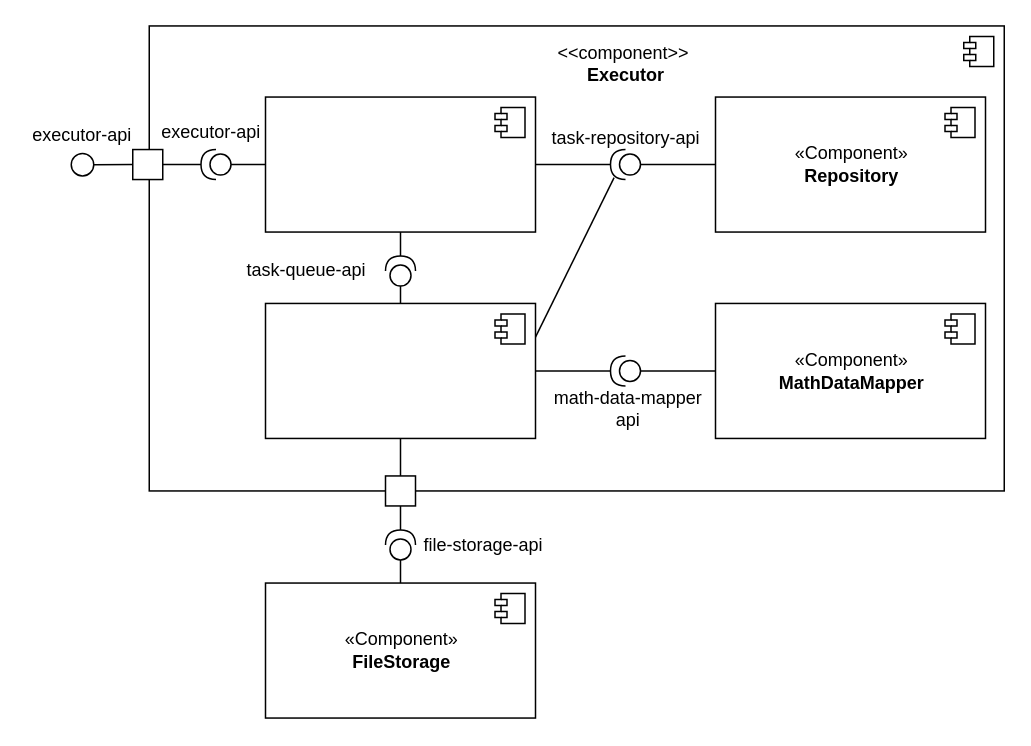
The diagram is 1031 pixels wide and 746 high, and some of its shapes have lost their labels. The centre of each missing label's shape, as x and y in pixels:
"«Component» API" goes at (x=400, y=164).
"«Component» Execution" goes at (x=400, y=370).
